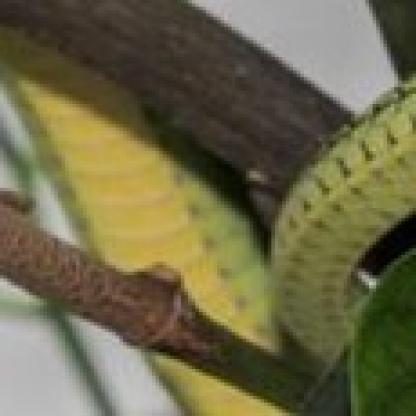snakes: (11, 47, 268, 416), (275, 67, 416, 367)
